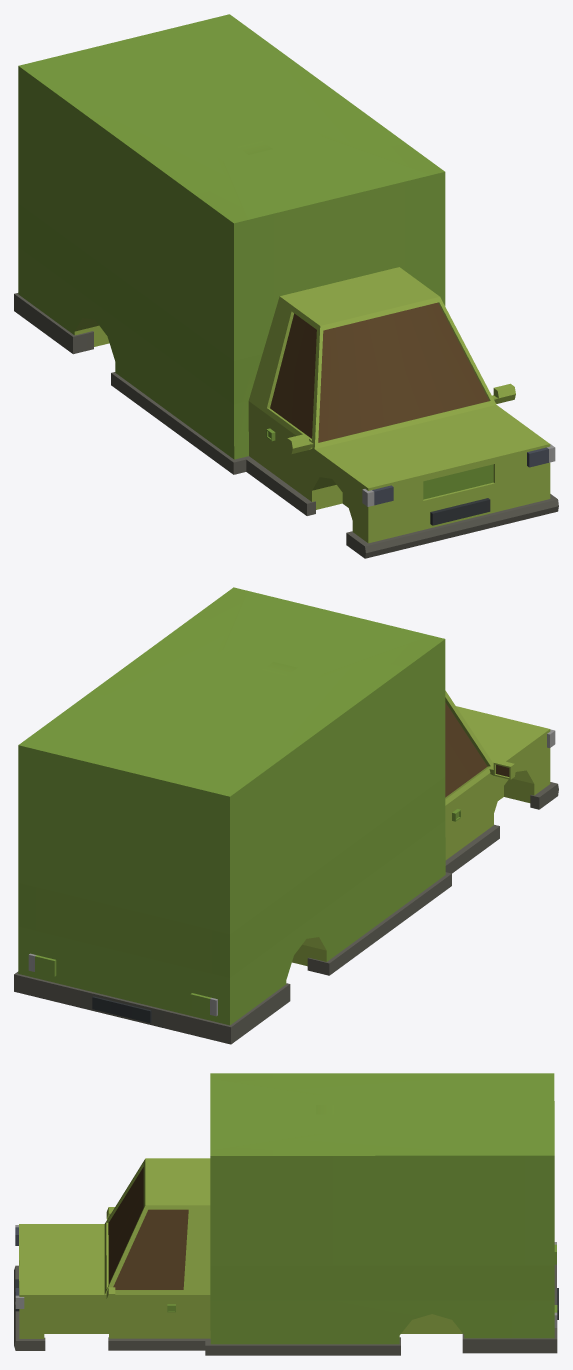
Rendered from Car_25.fbx.
3 views of the same model, one above another, from view 1: azimuth 30°, elevation 25°; view 2: azimuth 150°, elevation 25°; view 3: azimuth 270°, elevation 25° (orthographic). The views are drawn at different scales.
Visible parts, largest first — view 1: Car_25; view 2: Car_25; view 3: Car_25.
Part boxes in pixels (<box>): Car_25: <box>14,14,558,558</box>; Car_25: <box>14,587,558,1044</box>; Car_25: <box>14,1073,558,1355</box>.
Bounding box in the file's own units: 1.97 × 2.09 × 5.21.
